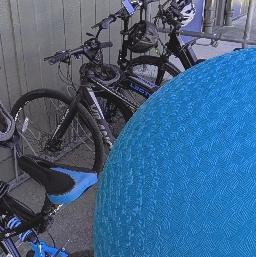algae: (97, 41, 256, 257)
